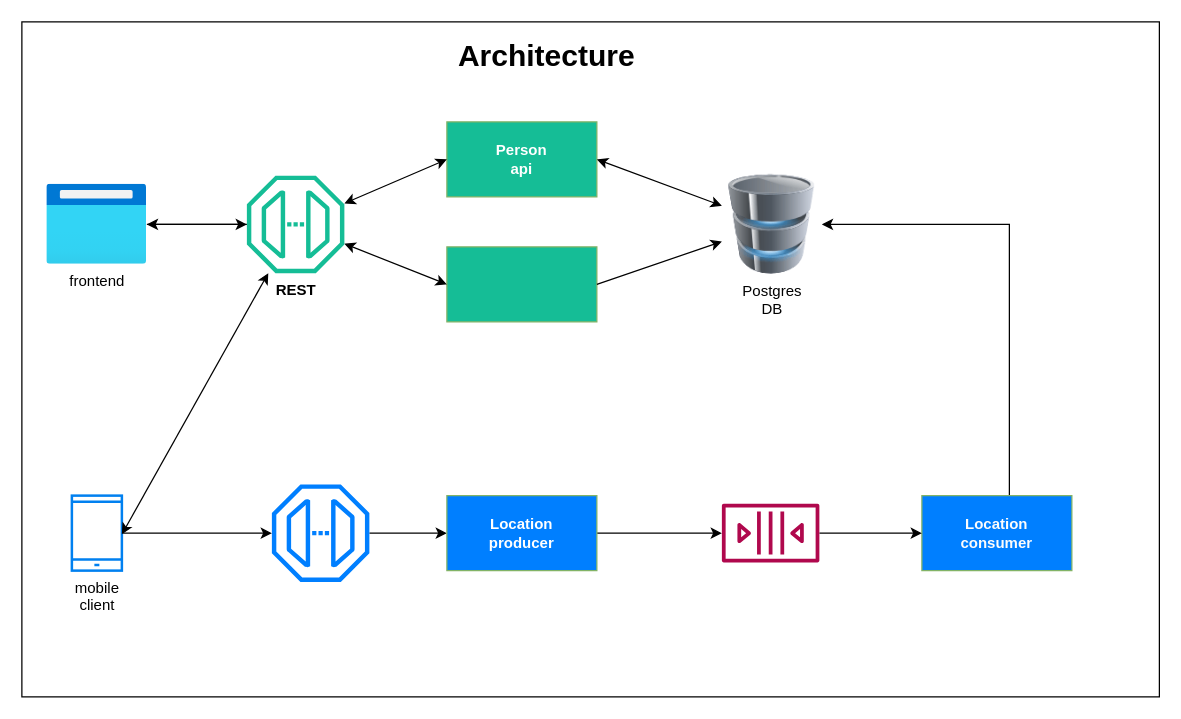
Image size: 1181x719. Some labels were removed from this diagram. Here are the shapes that lost their labels. From the top down, the box of each, then its label:
(446, 246, 597, 322): Connection api
(271, 484, 369, 581): GRPC
(721, 503, 819, 562): KAFKA
